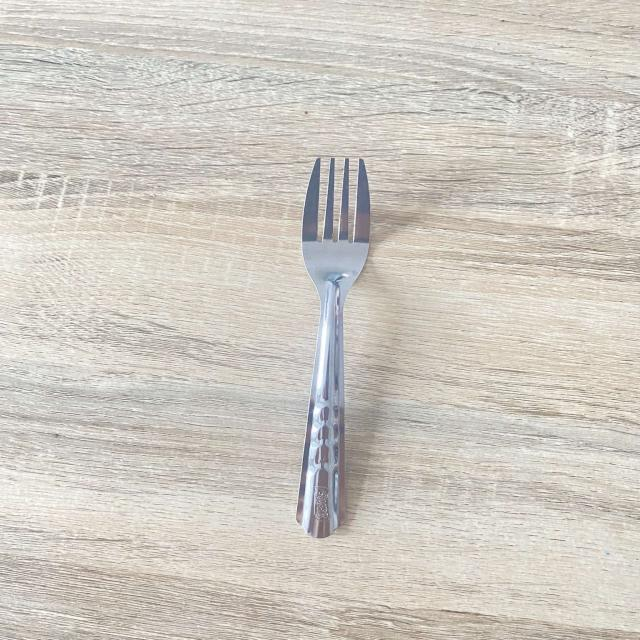fork: (262, 150, 408, 548)
